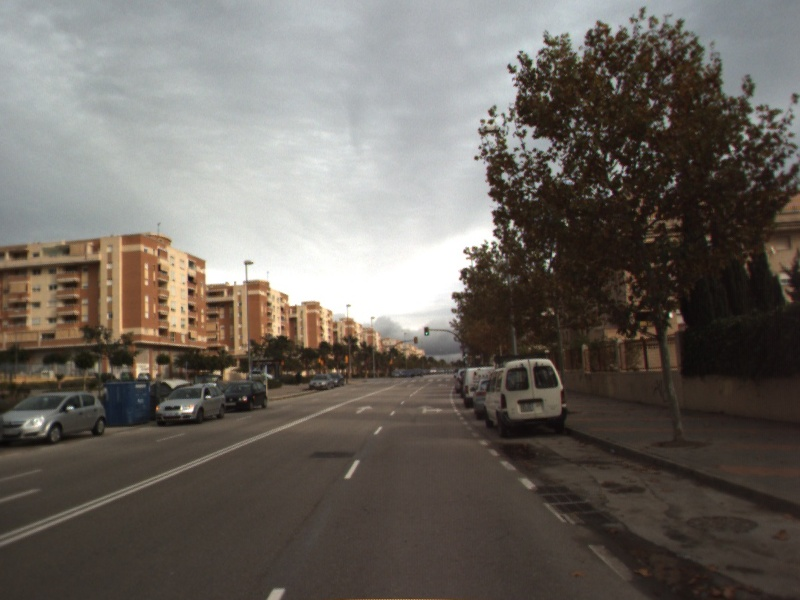STRAIGHT: (353, 403, 375, 416)
STRAIGHT_RIGHT: (416, 403, 445, 415)
